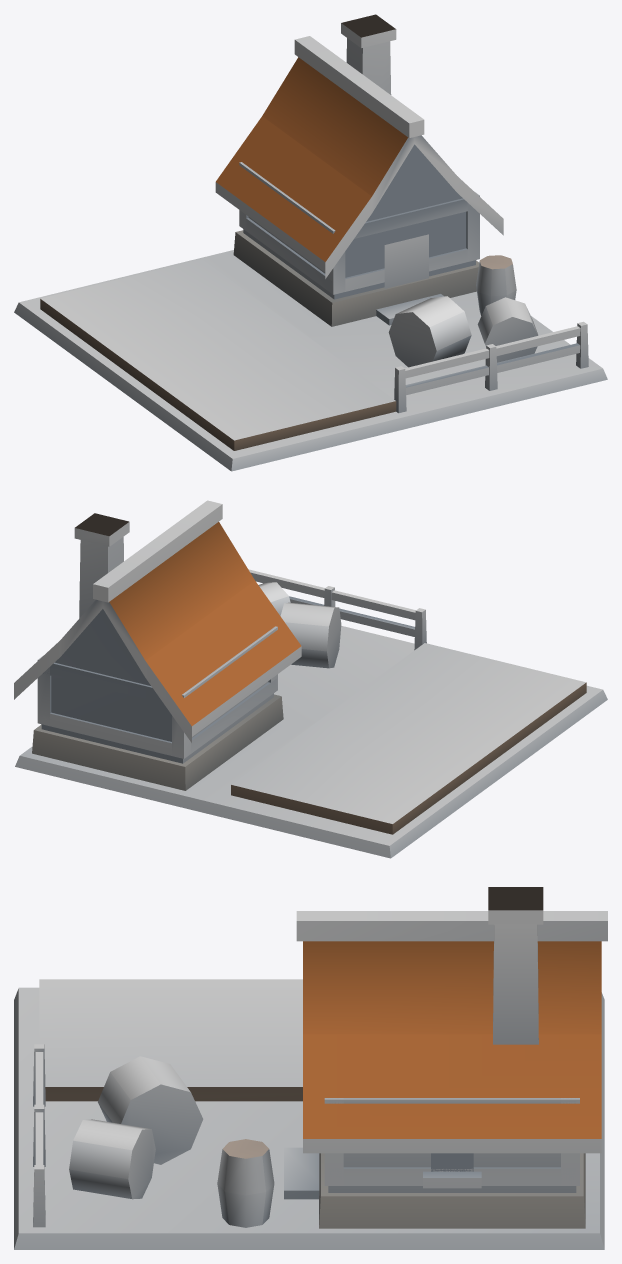
File: farm_t2.glb
3 renders of one model, top to bottom at view 1: azimuth 30°, elevation 25°; view 2: azimuth 150°, elevation 25°; view 3: azimuth 270°, elevation 25°, orthographic. The views are drawn at different scales.
Parts seen in each view (by area): view 1: farm_t2; view 2: farm_t2; view 3: farm_t2.
Boxes of the visible parts, bbox=[...] form: farm_t2: bbox=[14, 14, 607, 471]; farm_t2: bbox=[14, 500, 607, 858]; farm_t2: bbox=[14, 887, 607, 1249].
Size of the model in its own units: 1.87 by 1.09 by 1.87.
